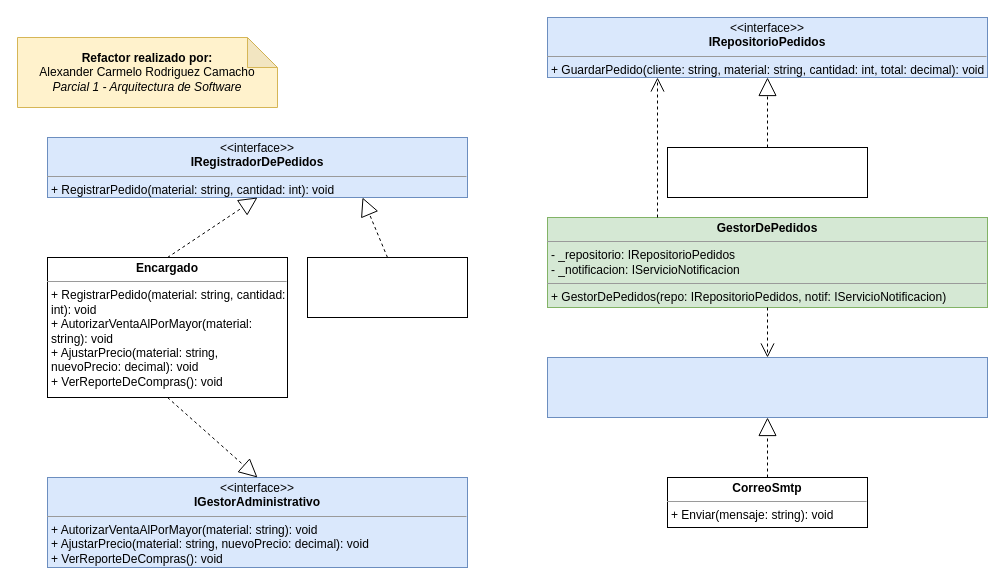
Some shapes in this 1005 by 585 pixel diagram are drawn without their labels. Here are the shapes that lost their labels. From the top down, the box of each, then its label:
(666, 146, 868, 198): BaseDeDatosMySql + GuardarPedido(): void
(306, 256, 468, 318): Vendedor + RegistrarPedido(material: string, cantidad: int): void
(546, 356, 988, 418): <<interface>> IServicioNotificacion + Enviar(mensaje: string): void
